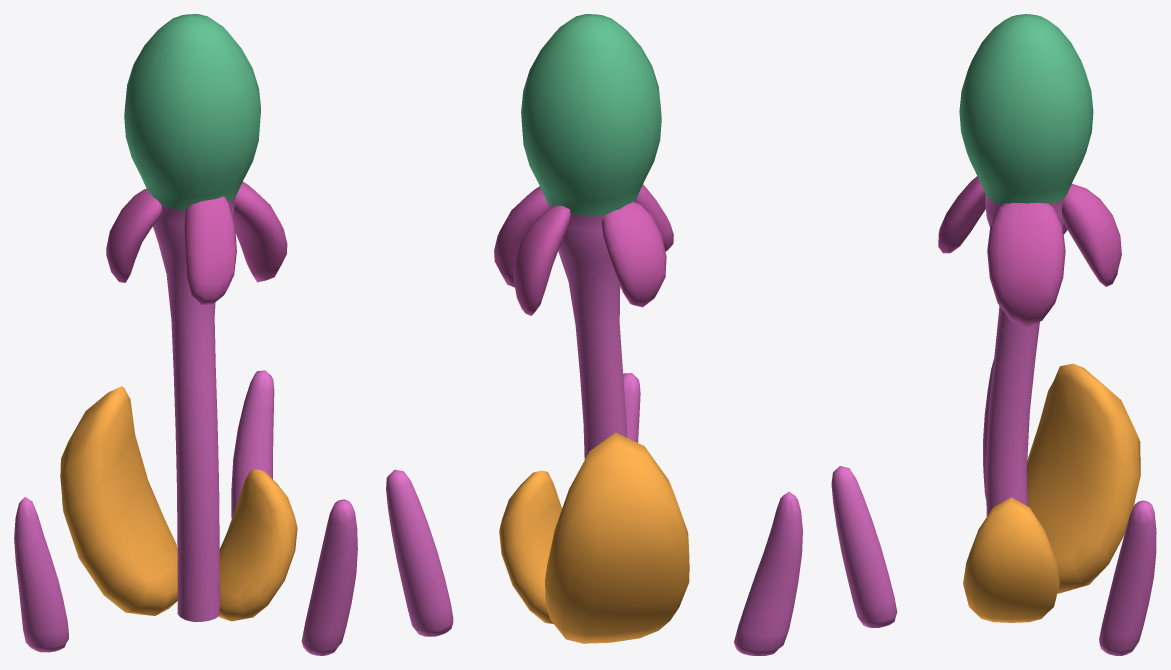
The model's file is ExoticGrass_A_01.fbx.
3 views of the same model, side by side, from view 1: azimuth 30°, elevation 25°; view 2: azimuth 150°, elevation 25°; view 3: azimuth 270°, elevation 25° (orthographic). The views are drawn at different scales.
Parts seen in each view (by area): view 1: ExoticGrass_A_01_LOD0; view 2: ExoticGrass_A_01_LOD0; view 3: ExoticGrass_A_01_LOD0.
Part boxes in pixels (left/top/right/bottom): ExoticGrass_A_01_LOD0: left=14, top=14, right=357, bottom=655; ExoticGrass_A_01_LOD0: left=386, top=14, right=802, bottom=655; ExoticGrass_A_01_LOD0: left=831, top=14, right=1156, bottom=655.
Size of what is drawn, in the model's own units: 497 by 865 by 431.
